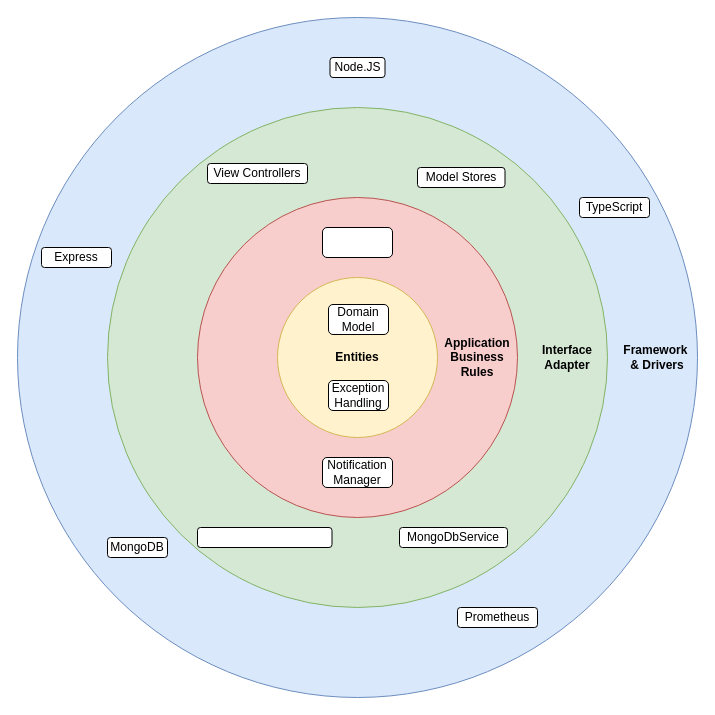
Image size: 715x715. Some labels were removed from this diagram. The centre of each missing label's shape, as x and y in pixels:
PrometheusService: the point at 264,537
Threshold Monitor: the point at 357,242
